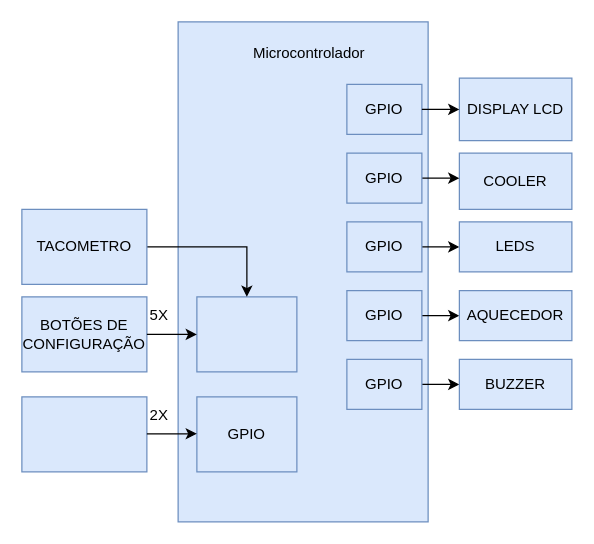
Image size: 594x544. Some labels were removed from this diagram. The shapes that lost their labels are listed below. From the top down, each one's centre as x and y in pixels, then its label:
At pixel 246 334: "CONVERSOR A/D".
At pixel 84 434: "SENSOR DE TEMPERATURA".
